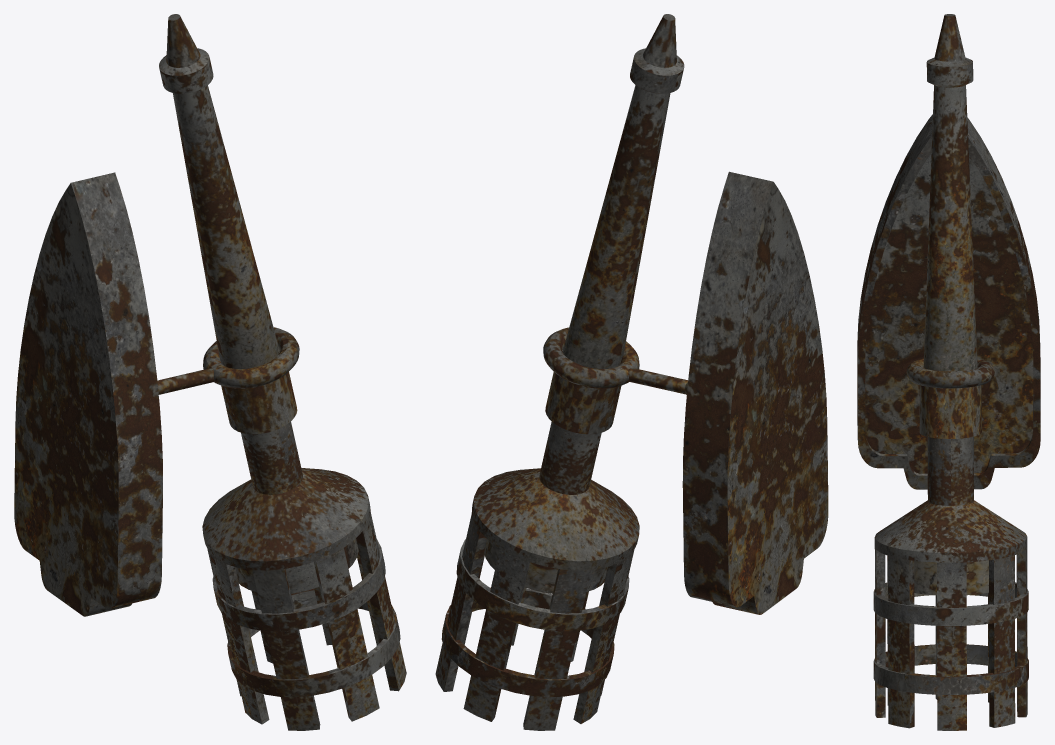
Rendered from torchobj.obj.
The picture shows the model from 3 angles, left to right: view 1: azimuth 30°, elevation 25°; view 2: azimuth 150°, elevation 25°; view 3: azimuth 270°, elevation 25°; orthographic projection. The views are drawn at different scales.
Parts seen in each view (by area): view 1: Torch; view 2: Torch; view 3: Torch.
Part boxes in pixels (x1,y1,x2,y2): Torch: (14,14,406,730); Torch: (435,14,828,730); Torch: (857,14,1040,730).
Size of the model in its own units: 9.91 by 20.63 by 5.27.
1 material, 1 textured.
